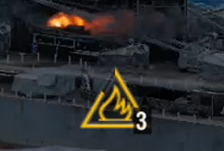3fire: (76, 94, 151, 135)
